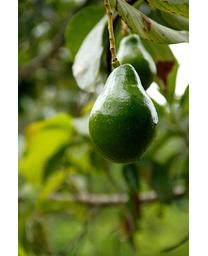avocado: (88, 63, 160, 165)
